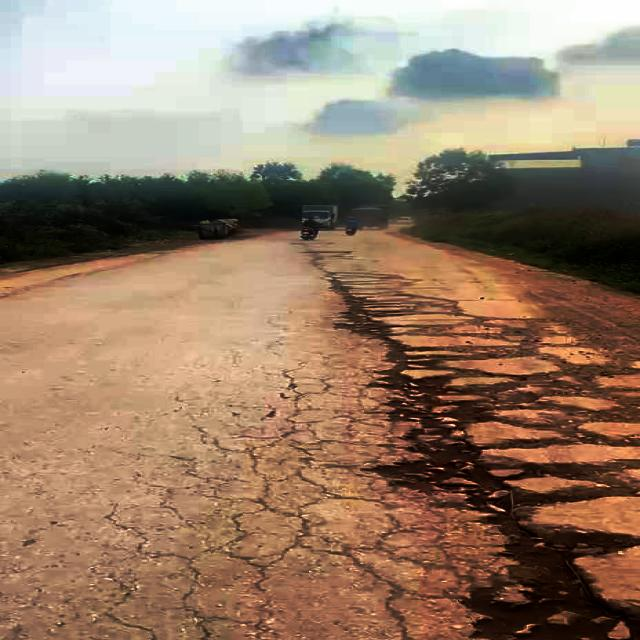pothole: (367, 446, 640, 640), (365, 341, 640, 457), (331, 278, 463, 347)
